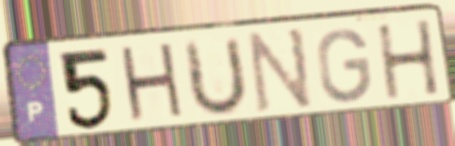5: (54, 45, 119, 133)
G: (314, 26, 374, 106)
H: (116, 39, 189, 128), (373, 16, 443, 103)
N: (247, 25, 315, 116)
U: (183, 33, 251, 121)
